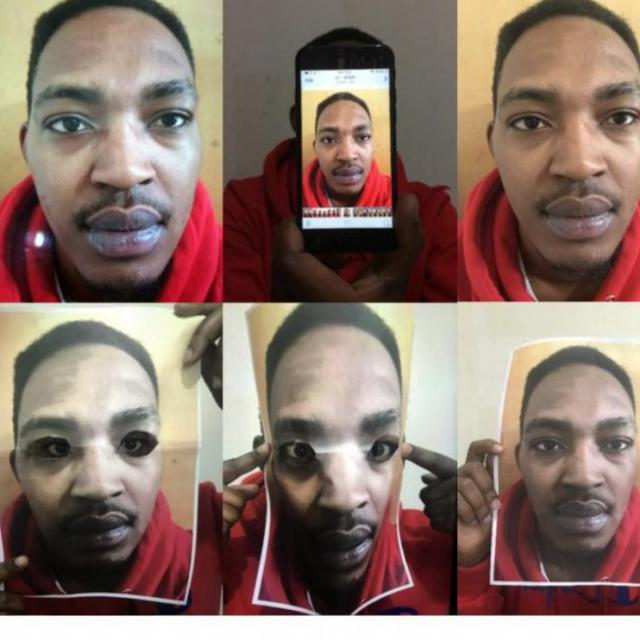device: (290, 35, 397, 251)
live: (488, 0, 640, 263)
mask: (0, 304, 206, 604), (246, 307, 424, 615)
photo: (486, 331, 640, 592)
